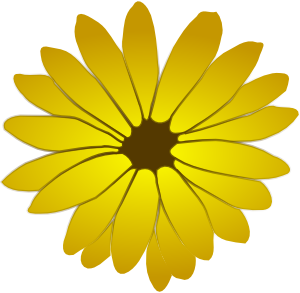dandelion: (12, 38, 280, 271)
